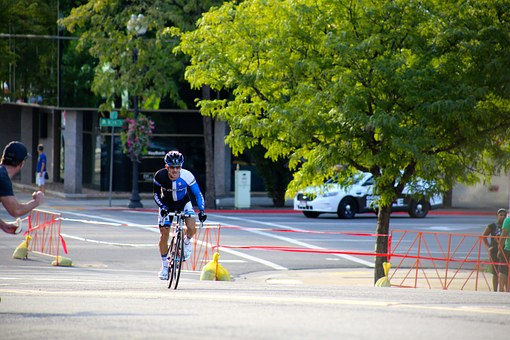bikerider: (140, 141, 216, 297)
